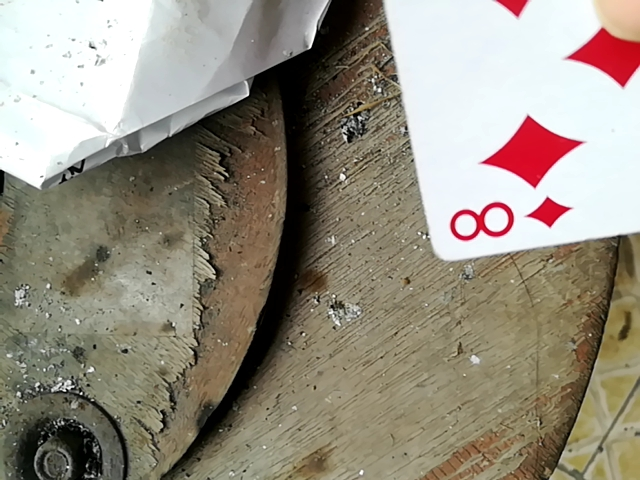fk 8: (357, 0, 635, 265)
